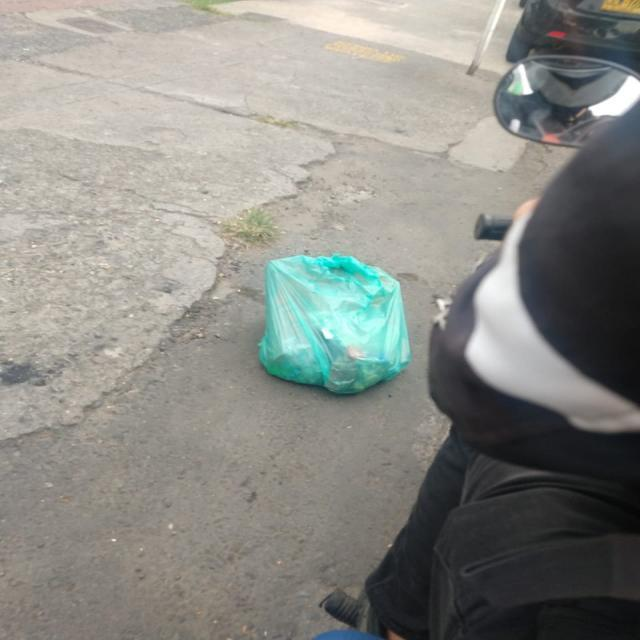Garbage_Bag: (255, 252, 424, 398)
